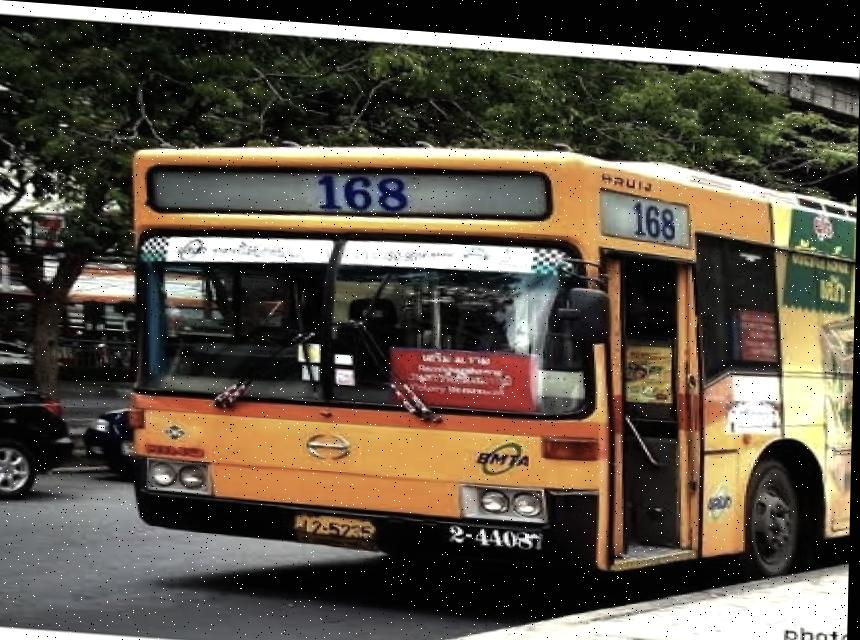BMTA-bus: (119, 141, 857, 574)
Bus Line Number: (302, 160, 416, 210)
Bus Side Number: (445, 509, 550, 547)
Destination Sign: (388, 340, 546, 406)
